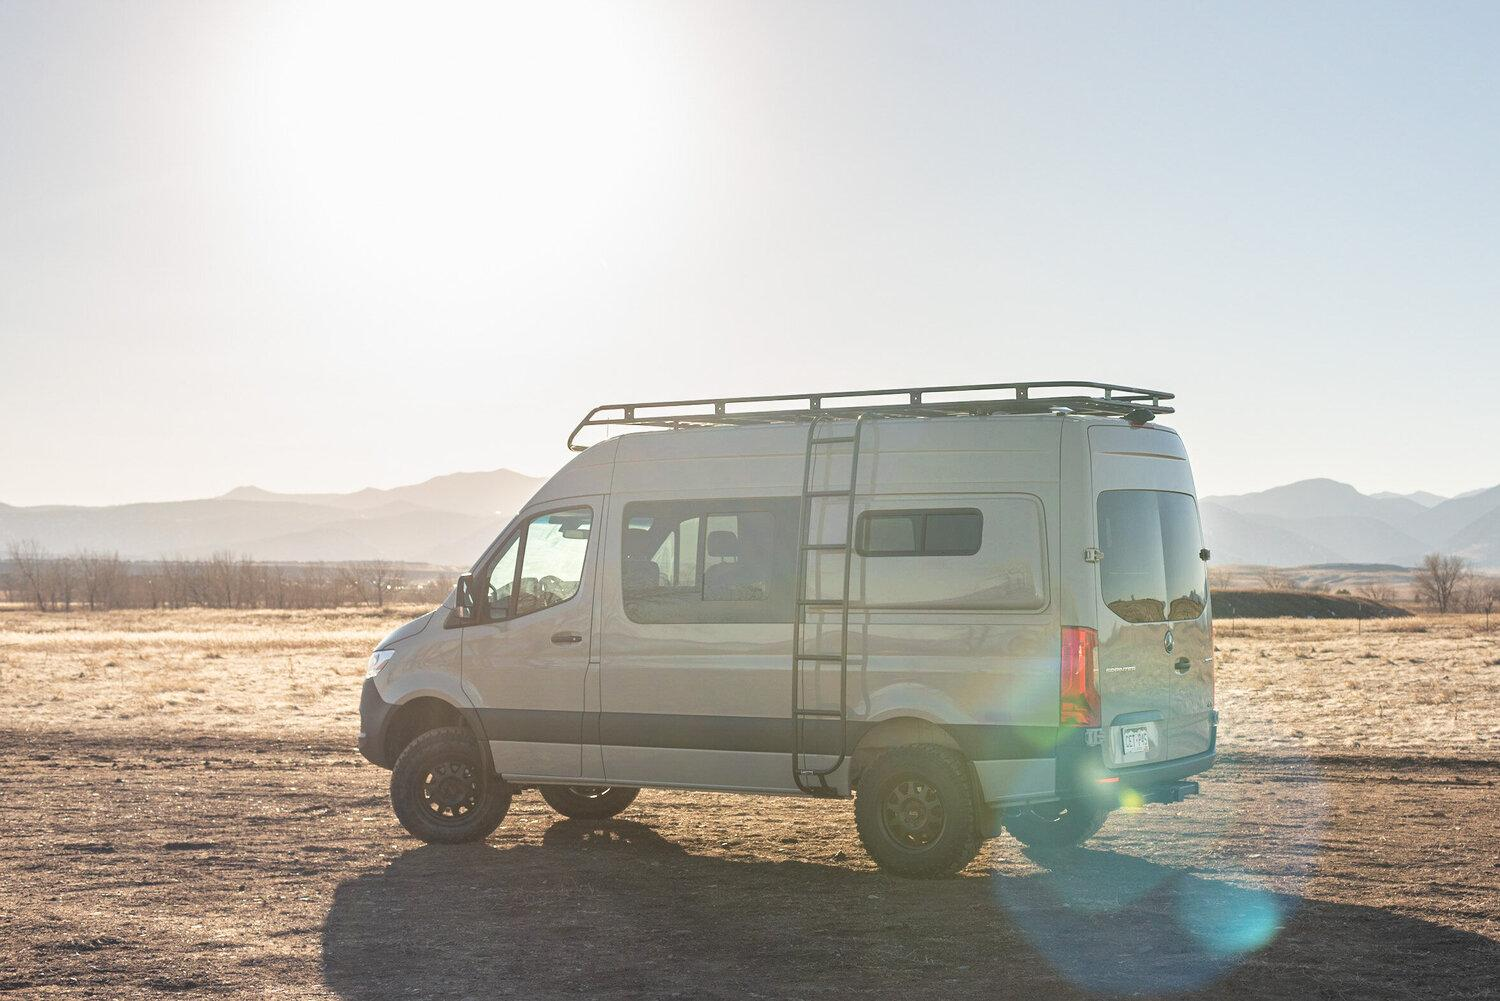van: (359, 406, 1219, 881)
